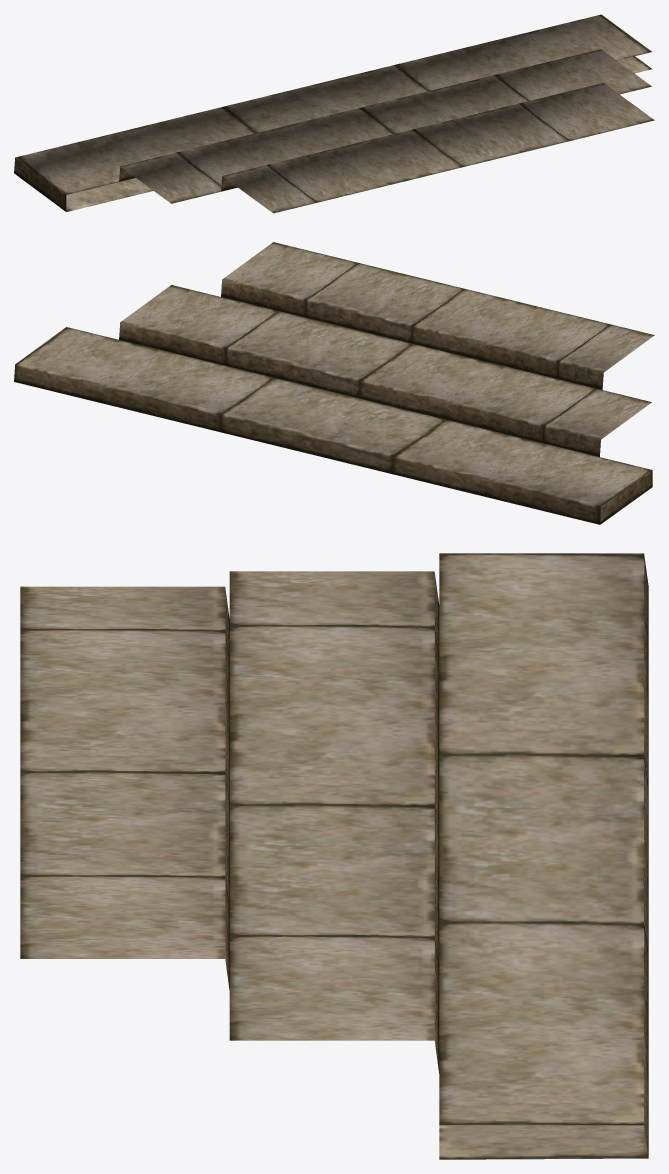
The model's file is EKH_THRONE_PS_TH_PLANE014847.fbx.
3 views of the same model, one above another, from view 1: azimuth 30°, elevation 25°; view 2: azimuth 150°, elevation 25°; view 3: azimuth 270°, elevation 25° (orthographic). The views are drawn at different scales.
Visible parts, largest first — view 1: EKH_THRONE_PS_TH_PLANE014847; view 2: EKH_THRONE_PS_TH_PLANE014847; view 3: EKH_THRONE_PS_TH_PLANE014847.
Part boxes in pixels (bbox=[...]): EKH_THRONE_PS_TH_PLANE014847: bbox=[14, 14, 654, 213]; EKH_THRONE_PS_TH_PLANE014847: bbox=[14, 242, 654, 524]; EKH_THRONE_PS_TH_PLANE014847: bbox=[20, 553, 648, 1159].
Bounding box in the file's own units: 84529 × 6947 × 39233.
1 material, 1 textured.
